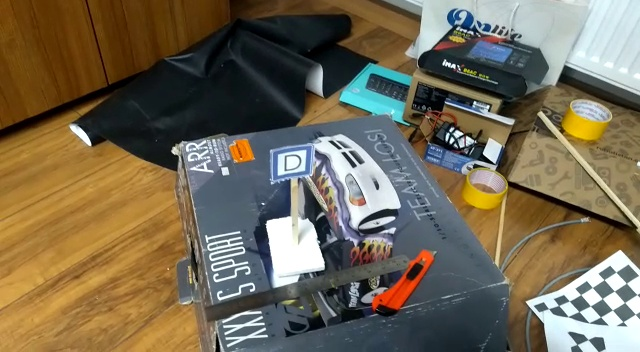durak: (267, 141, 314, 184)
